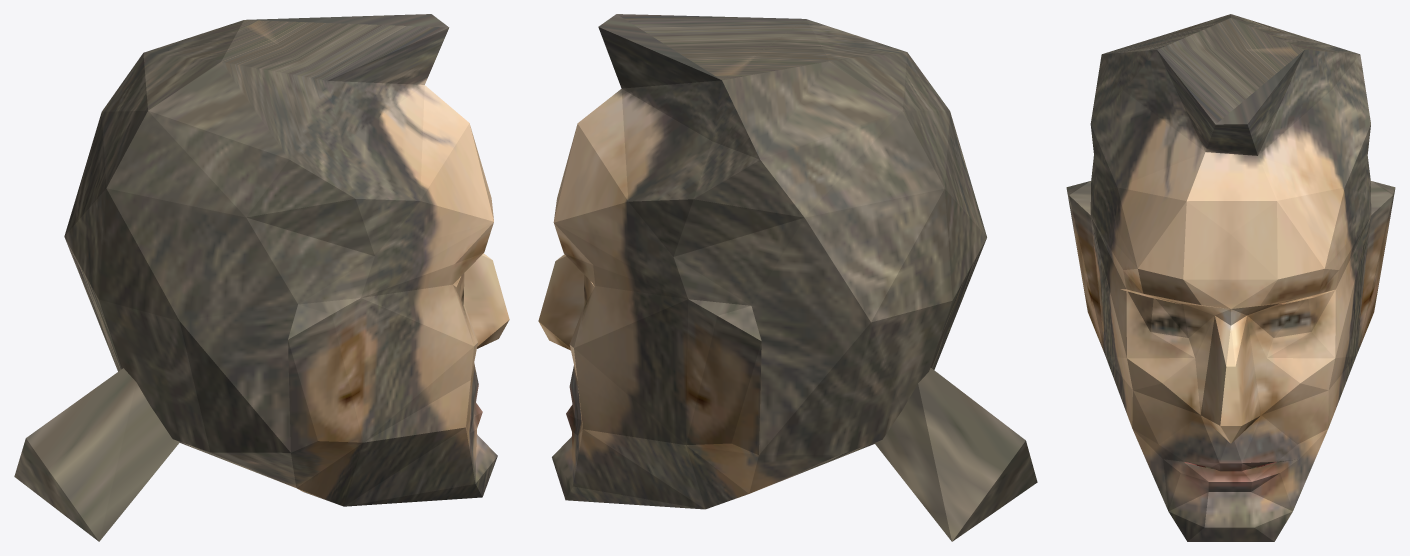
The model's file is THIEF-C0Lykz5X.glb.
3 renders of one model, left to right at view 1: azimuth 30°, elevation 25°; view 2: azimuth 150°, elevation 25°; view 3: azimuth 270°, elevation 25°, orthographic. The views are drawn at different scales.
Parts seen in each view (by area): view 1: zm_Morph; view 2: zm_Morph; view 3: zm_Morph.
Part boxes in pixels (x1=…): zm_Morph: x1=14, y1=14, x2=509, y2=541; zm_Morph: x1=538, y1=14, x2=1037, y2=541; zm_Morph: x1=1066, y1=14, x2=1395, y2=541.
Bounding box in the file's own units: 0.2779 × 0.2642 × 0.187.
Materials: 3 (3 with a texture image).
